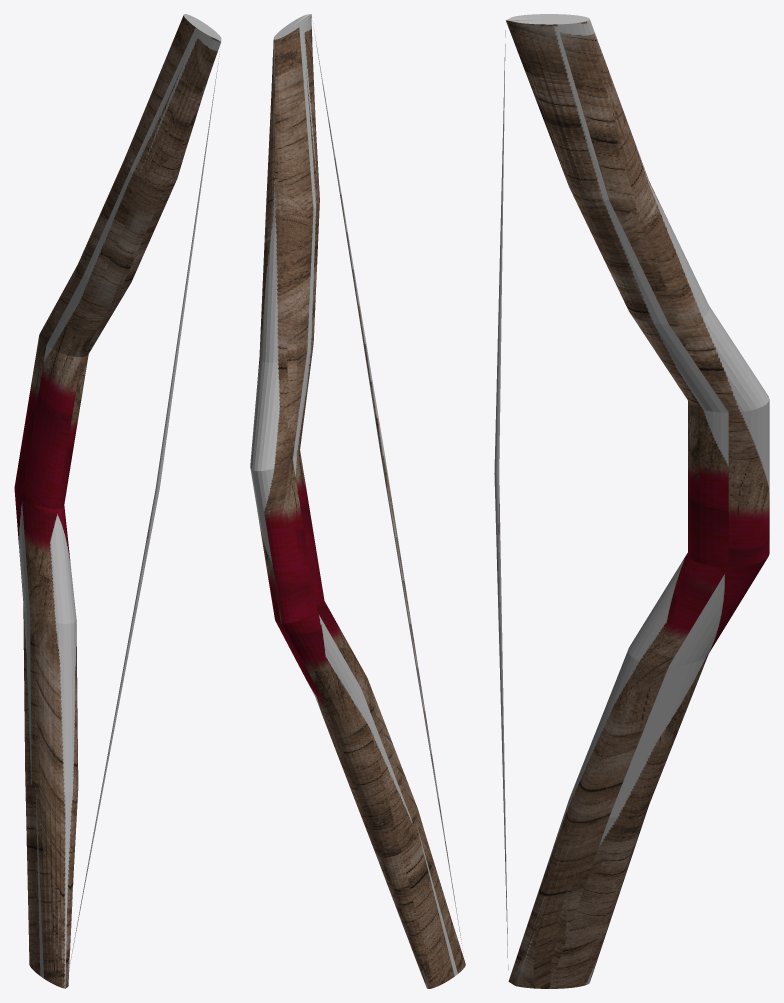
File: Protagonista129.obj
The picture shows the model from 3 angles, left to right: view 1: azimuth 30°, elevation 25°; view 2: azimuth 150°, elevation 25°; view 3: azimuth 270°, elevation 25°; orthographic projection. The views are drawn at different scales.
Parts seen in each view (by area): view 1: Cilindro; view 2: Cilindro; view 3: Cilindro.
Boxes of the visible parts, left/top/right/bottom form: Cilindro: left=14, top=14, right=221, bottom=988; Cilindro: left=250, top=14, right=465, bottom=988; Cilindro: left=494, top=14, right=769, bottom=988.
Bounding box in the file's own units: 0.1877 × 0.9705 × 0.2298.
Materials: 1 (1 with a texture image).
